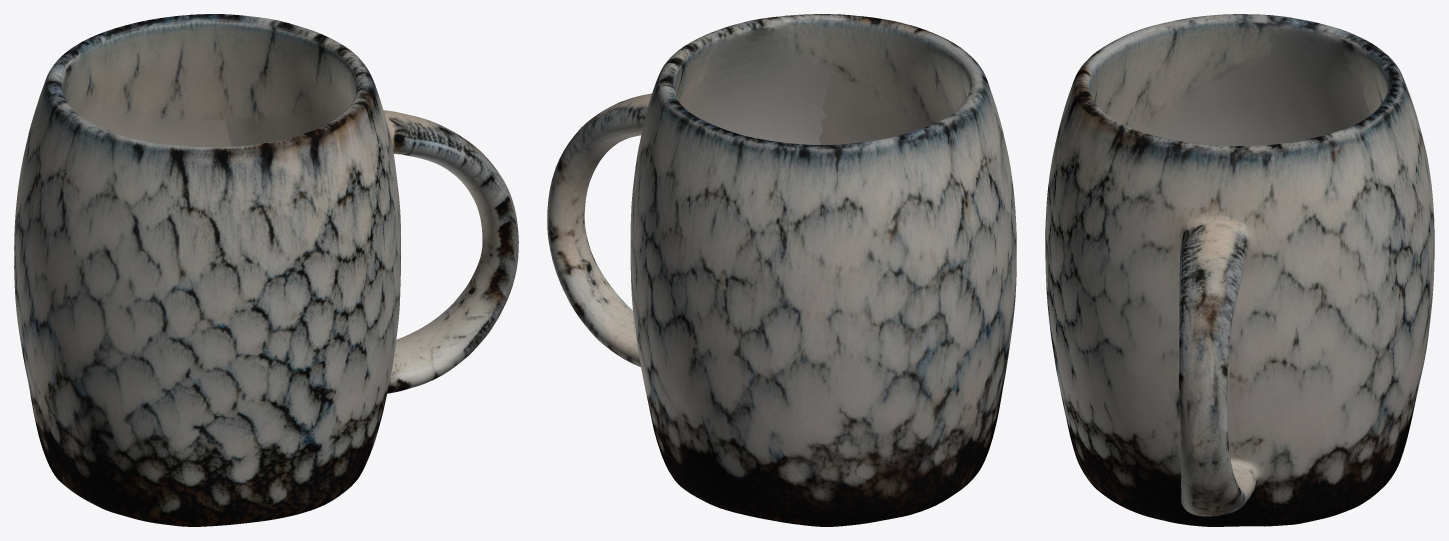
File: mug.glb
The picture shows the model from 3 angles, left to right: view 1: azimuth 30°, elevation 25°; view 2: azimuth 150°, elevation 25°; view 3: azimuth 270°, elevation 25°; orthographic projection.
Visible parts, largest first — view 1: textured_mesh.obj; view 2: textured_mesh.obj; view 3: textured_mesh.obj.
Part boxes in pixels (x1=…): textured_mesh.obj: x1=14, y1=14, x2=518, y2=526; textured_mesh.obj: x1=547, y1=14, x2=1016, y2=526; textured_mesh.obj: x1=1045, y1=14, x2=1434, y2=526.
Bounding box in the file's own units: 0.1461 × 0.118 × 0.1073.
Materials: 1 (1 with a texture image).
